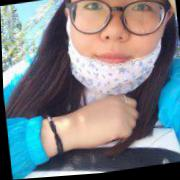WRONG: (66, 1, 175, 99)
